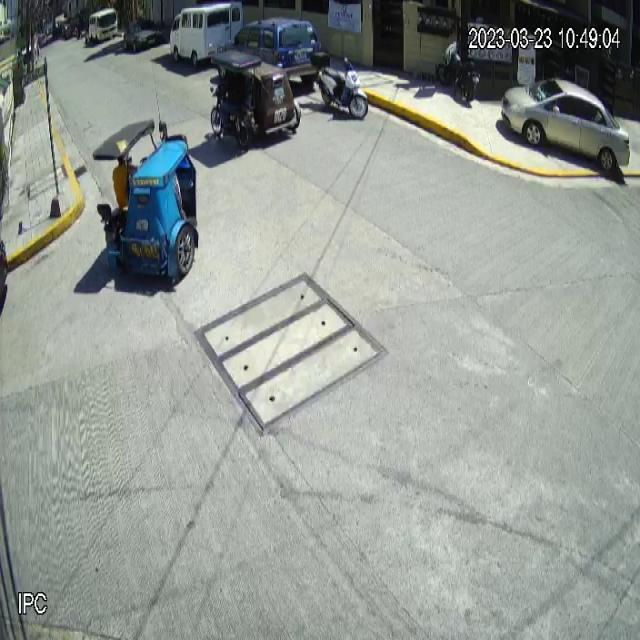Car: (501, 78, 630, 171), (216, 16, 323, 96)
Motorcycle: (309, 49, 369, 120)
Tricycle: (91, 118, 200, 336), (208, 50, 303, 154)
Van: (169, 0, 242, 69)
